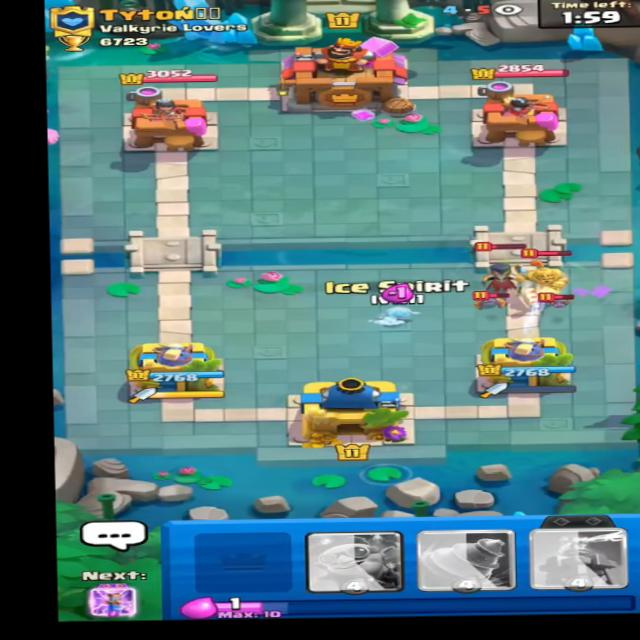Bat: (539, 289, 576, 311), (472, 289, 510, 310)
Nightwitch: (477, 253, 522, 302)
Prince: (518, 250, 569, 305)
